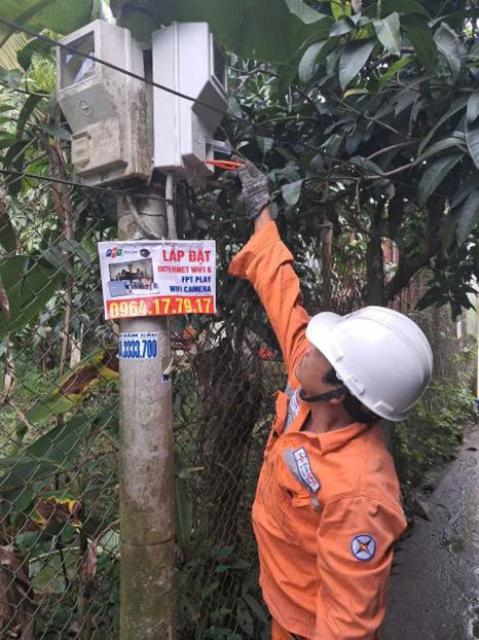gloves: (225, 157, 288, 223)
helmet: (285, 288, 440, 424)
